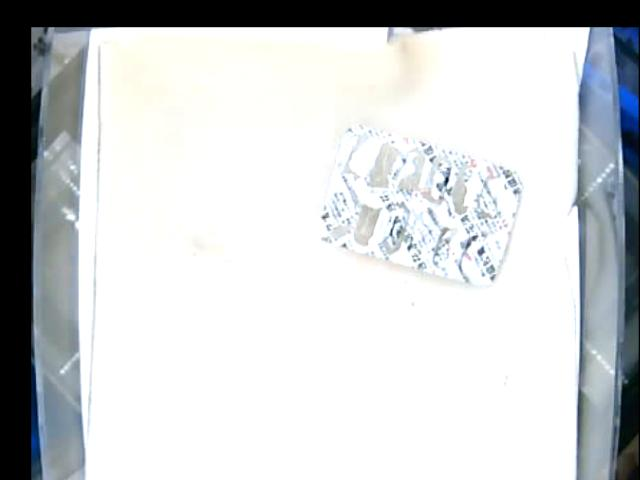Medicine: (316, 125, 521, 285)
